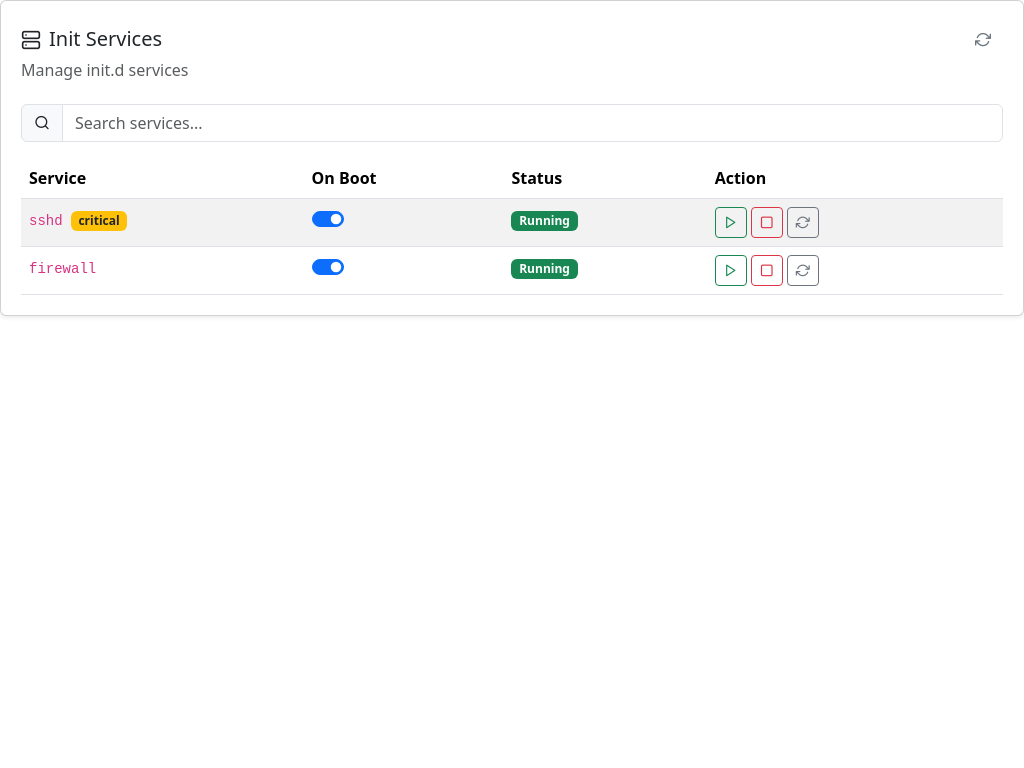
it: ServicesCard › asks for confirmation before stopping a flagged service the old hardcoded list never covered
Step 1. Click the button named "Stop" in the row of "sshd" → {"x": 767, "y": 223}, box x1=751 y1=207 x2=783 y2=238
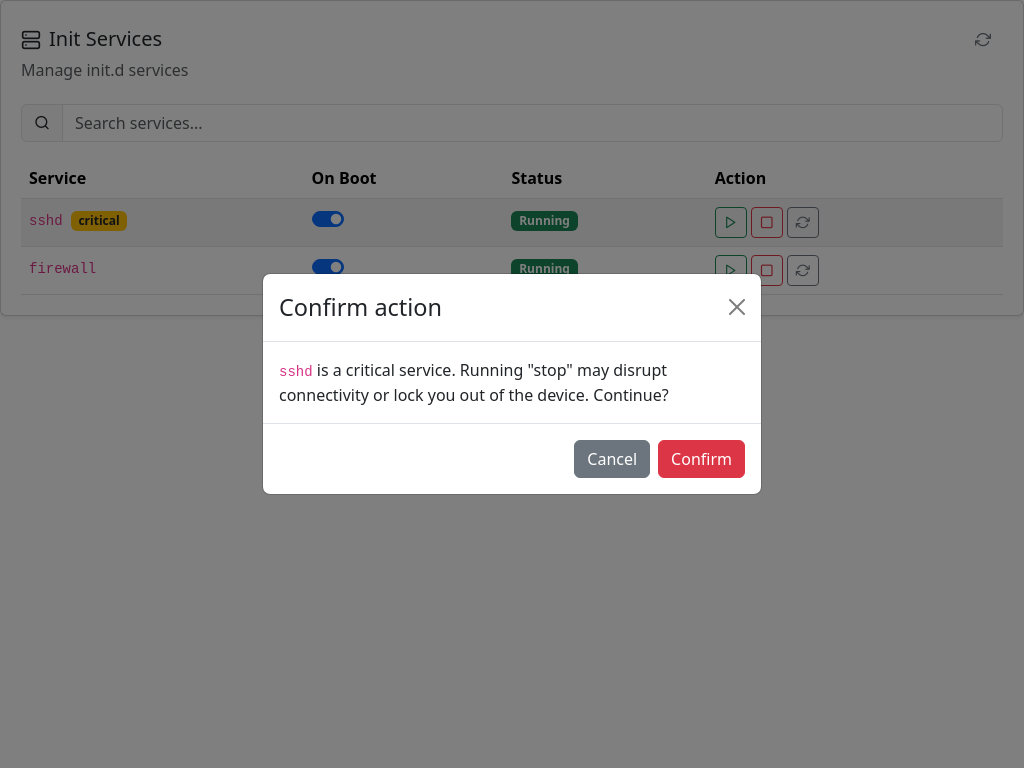
expect the dialog is shown: met, box x1=262 y1=273 x2=762 y2=495
expect the text "sshd" is shown: met, box x1=279 y1=364 x2=313 y2=380
